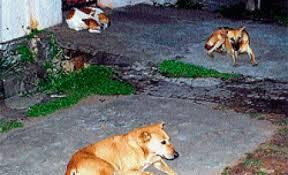normal_dogs: (66, 123, 182, 175), (204, 17, 261, 70), (61, 2, 122, 34)
